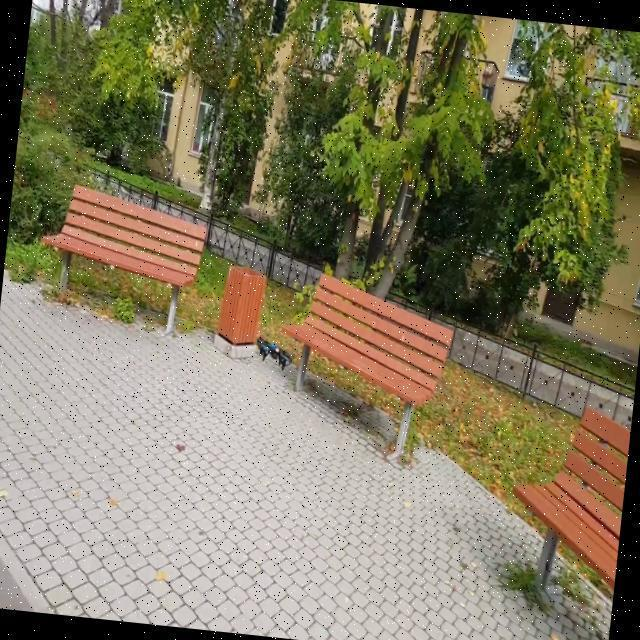Drons: (252, 336, 296, 376)
